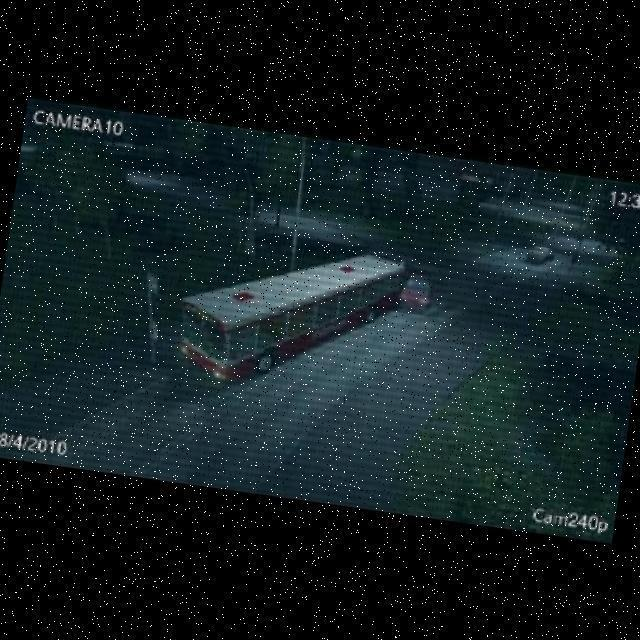accident: (357, 255, 439, 317)
